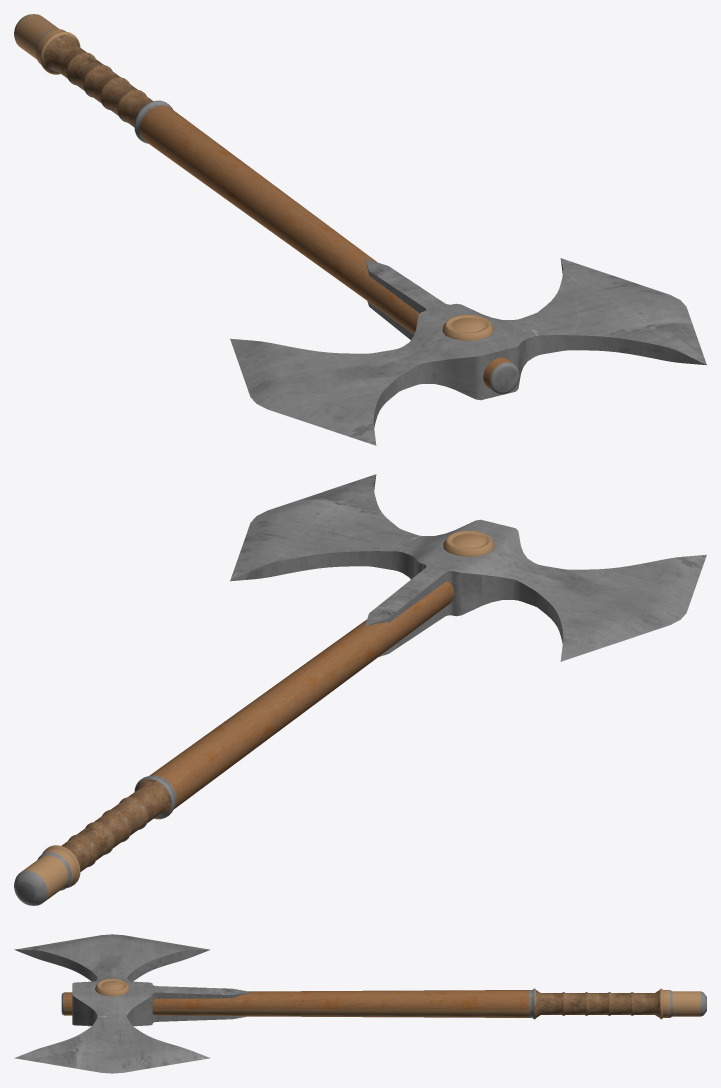
File: WarAxe_1.fbx
The picture shows the model from 3 angles, top to bottom: view 1: azimuth 30°, elevation 25°; view 2: azimuth 150°, elevation 25°; view 3: azimuth 270°, elevation 25°; orthographic projection. The views are drawn at different scales.
Visible parts, largest first — view 1: LongSword.001; view 2: LongSword.001; view 3: LongSword.001.
Part boxes in pixels (left/top/right/bottom): LongSword.001: left=14, top=14, right=706, bottom=445; LongSword.001: left=14, top=474, right=706, bottom=905; LongSword.001: left=14, top=934, right=706, bottom=1073.
Size of the model in its own units: 42.08 by 5.57 by 88.53.
